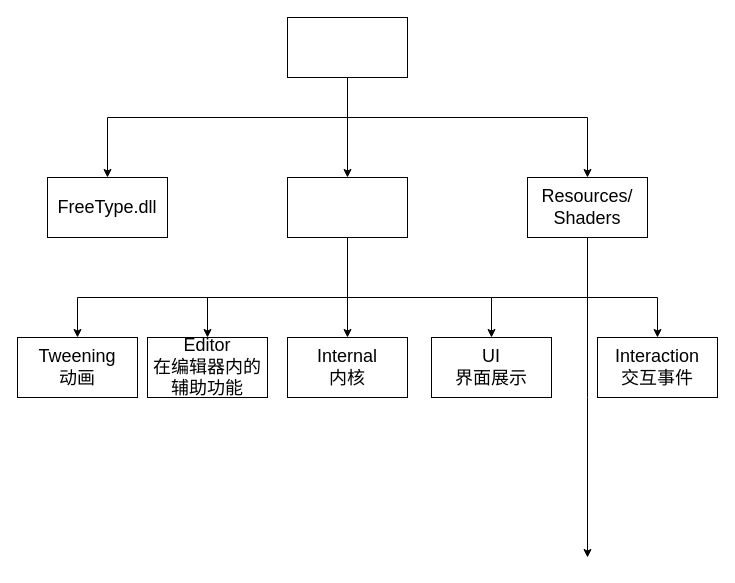
The diagram is 735 pixels wide and 583 high, and some of its shapes have lost their labels. Each missing label, with the box of its shape:
NGUI: (286, 16, 408, 78)
Scripts: (286, 176, 408, 238)
